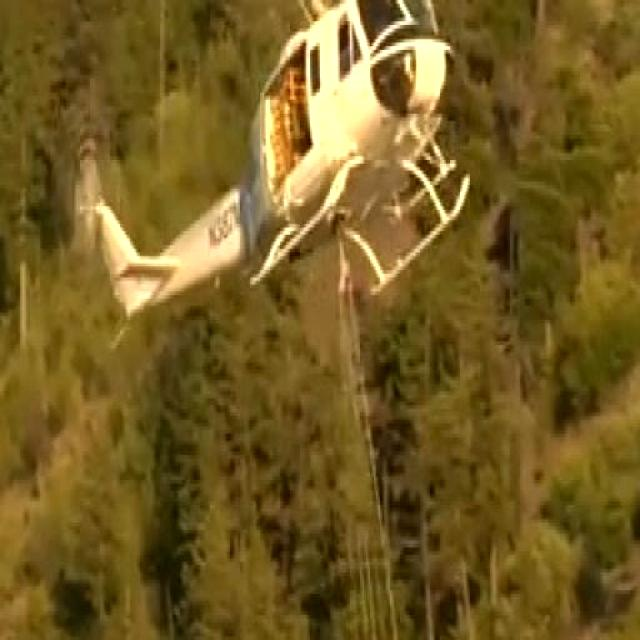drone: (62, 0, 504, 349)
